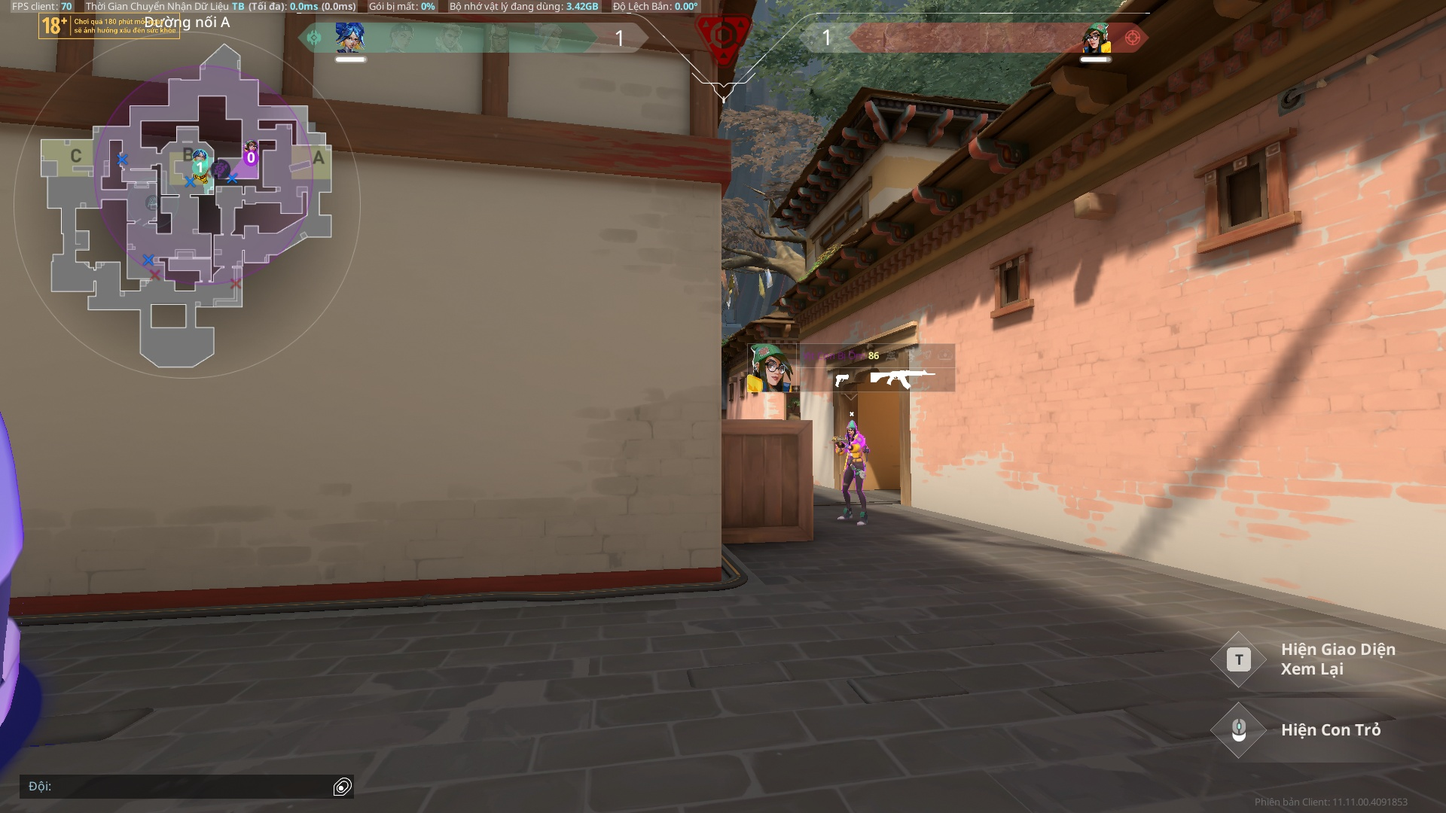body: (843, 432, 865, 458)
head: (847, 422, 857, 435)
